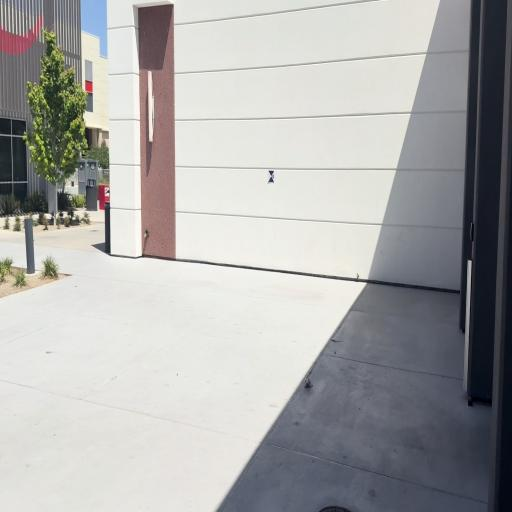target0: (268, 170, 275, 184)
